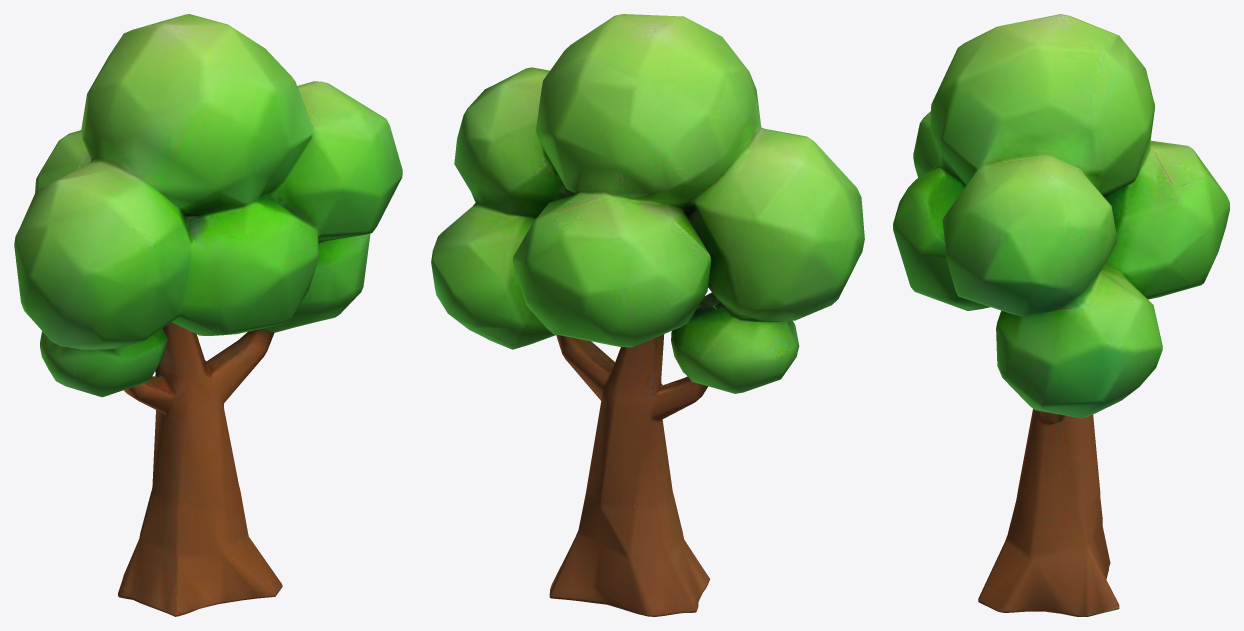
The picture shows the model from 3 angles, left to right: view 1: azimuth 30°, elevation 25°; view 2: azimuth 150°, elevation 25°; view 3: azimuth 270°, elevation 25°; orthographic projection.
Size of the model in its own units: 1.4 by 2 by 1.09.
1 material, 1 textured.
